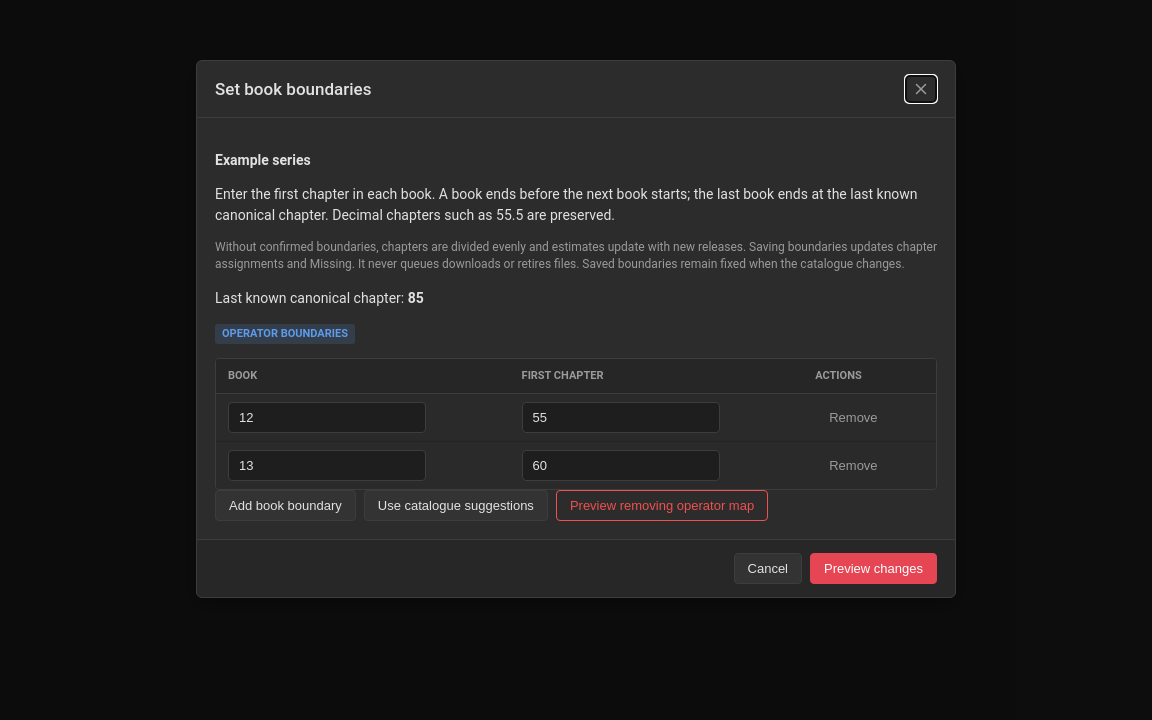
Test case: validation and preview › rejects invalid Book number in row 1 = 0.5 before sending a preview
The image size is (1152, 720).
Replace the text in the field named "Book number in row 1" with "0.5". click: (327, 417)
box: left=228, top=402, right=426, bottom=433
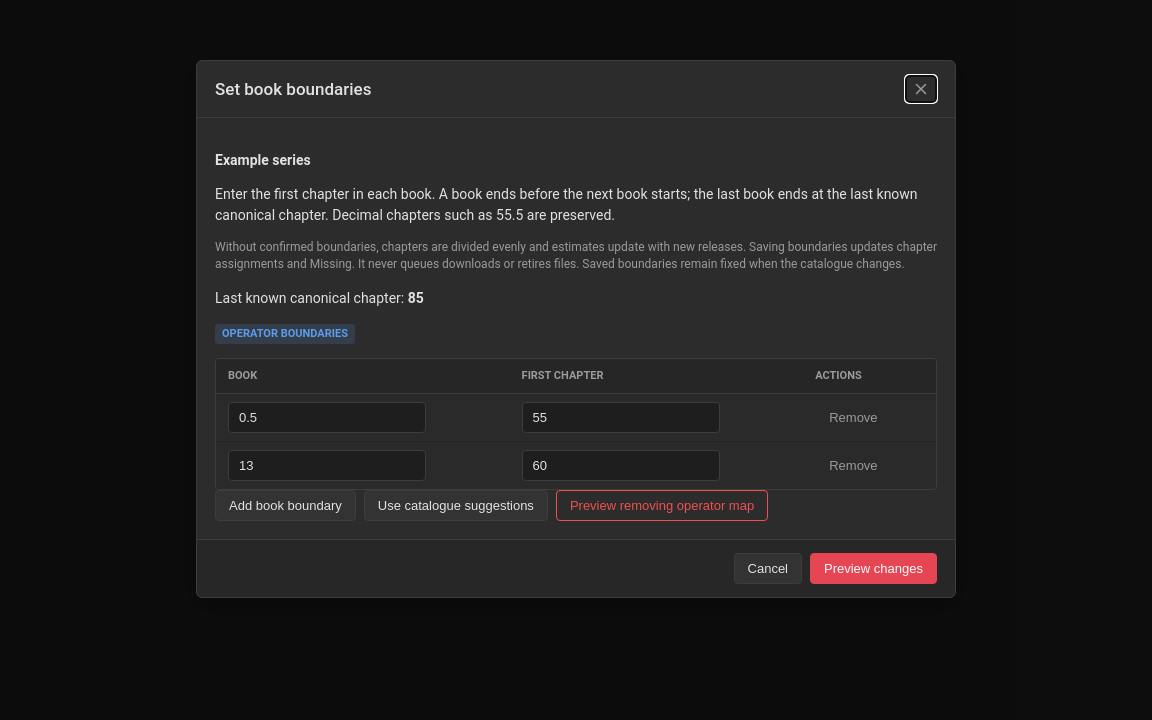
Click the button "Preview changes". click: (874, 568)
box: left=810, top=553, right=937, bottom=584
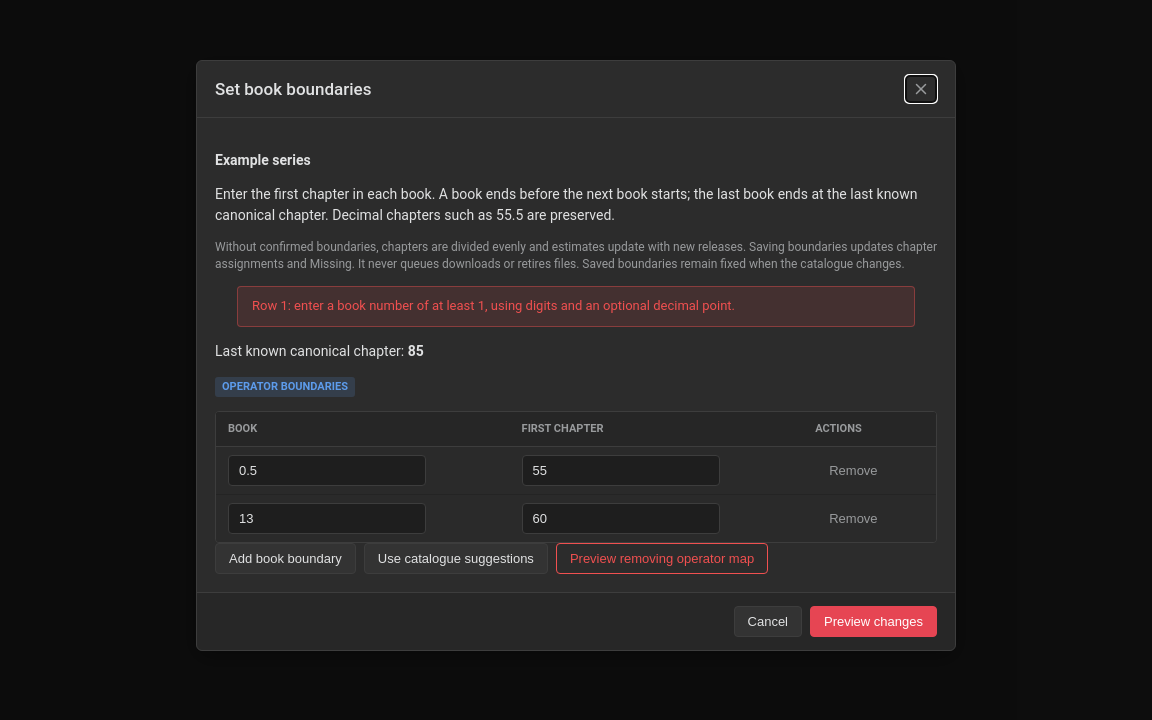
Expected: the message shows "at least 1", left=252, top=298, right=735, bottom=313
